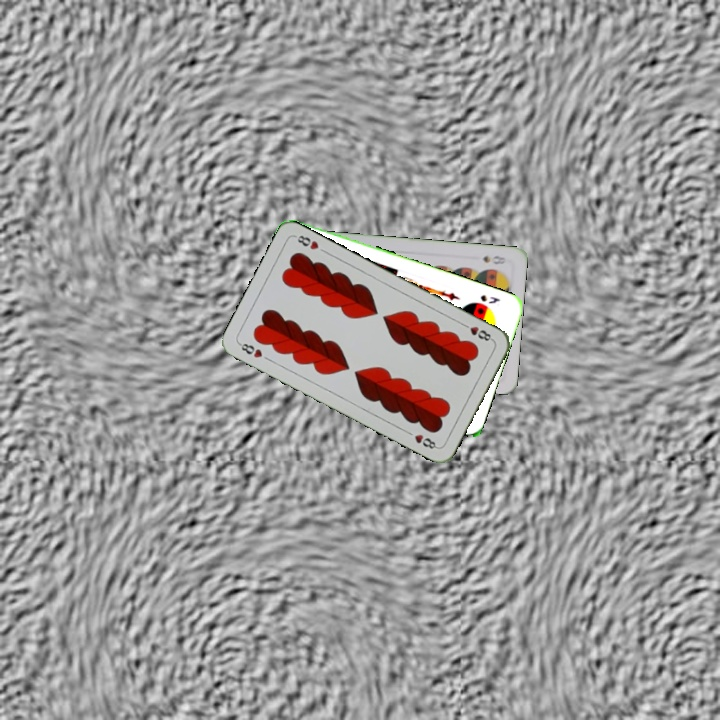H8: (458, 319, 496, 344), (235, 339, 265, 361)
S8: (478, 251, 508, 267)
SK: (476, 291, 503, 306)
